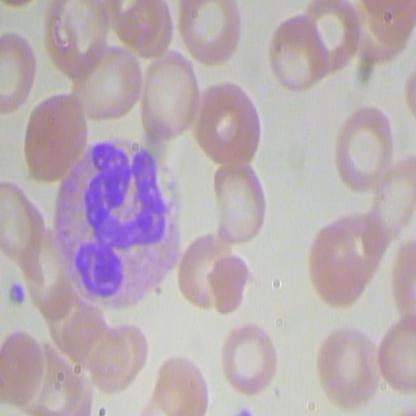Platelets: (6, 280, 28, 305)
RBC: (20, 90, 95, 183), (189, 76, 264, 168), (70, 44, 147, 128), (314, 316, 382, 409), (331, 102, 398, 195), (265, 8, 332, 100), (139, 48, 202, 138), (176, 221, 235, 315), (216, 316, 283, 398), (214, 151, 272, 244), (148, 345, 213, 415), (178, 1, 243, 67), (1, 331, 48, 411), (1, 25, 40, 115), (209, 252, 254, 319)
WBC: (50, 134, 183, 310)
